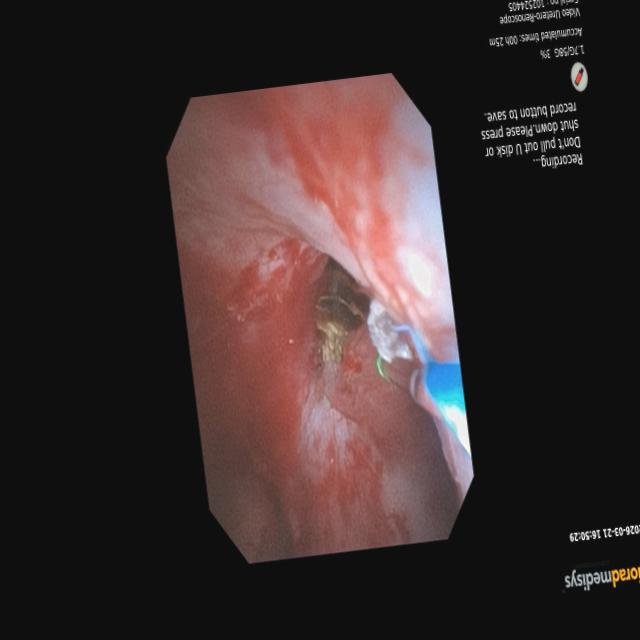laser-fibre: (381, 357, 442, 421)
stone-new: (315, 260, 369, 363)
